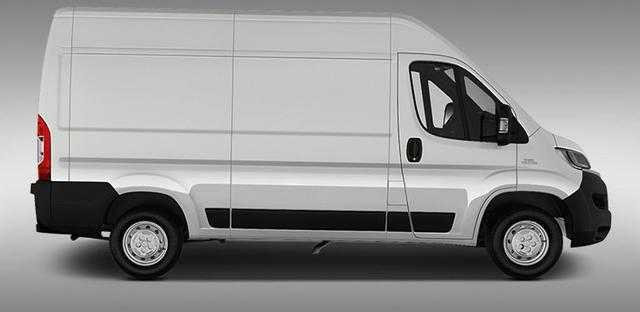van: (30, 8, 611, 281)
